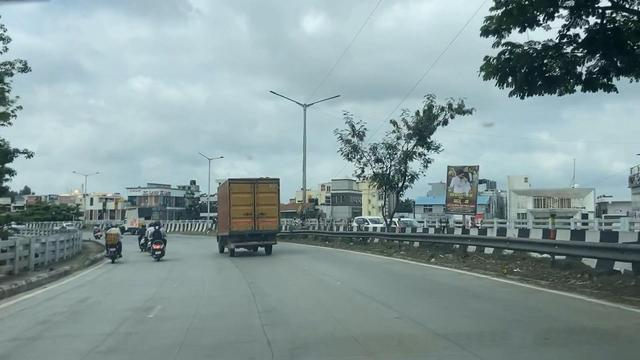HMV: (213, 181, 283, 255)
LMV: (99, 223, 127, 264), (143, 221, 168, 263)
